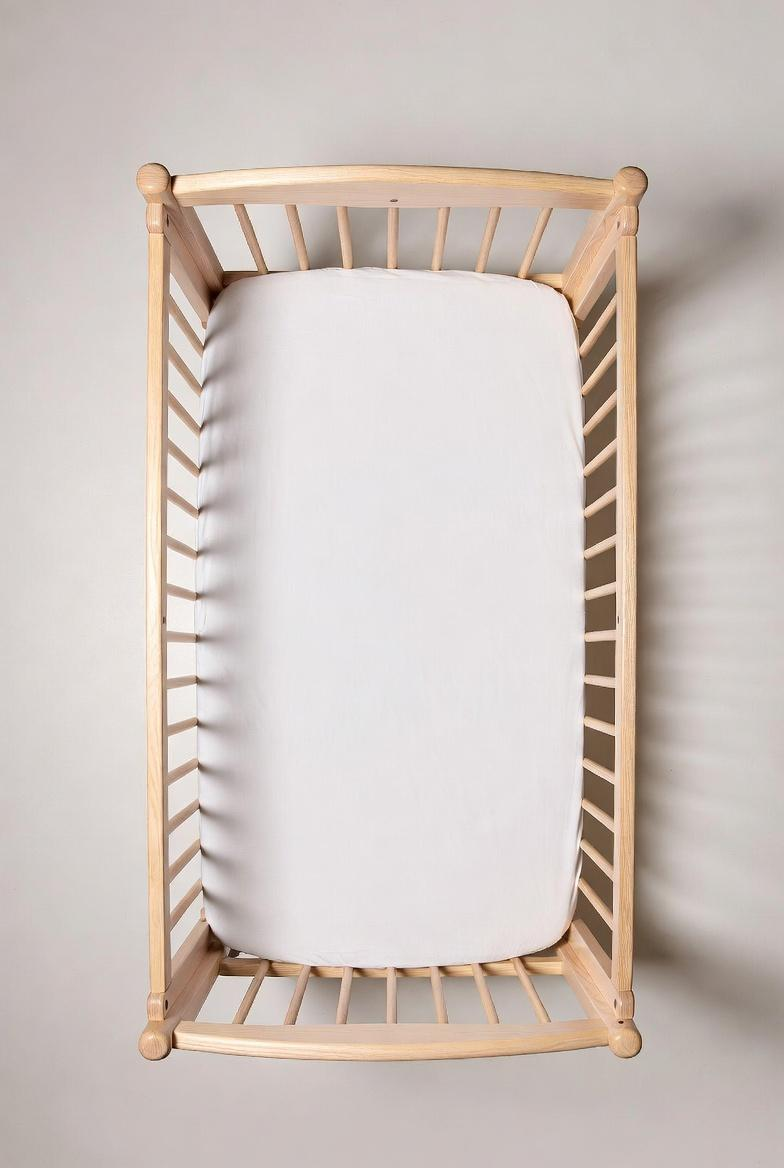crib: (138, 164, 647, 1060)
